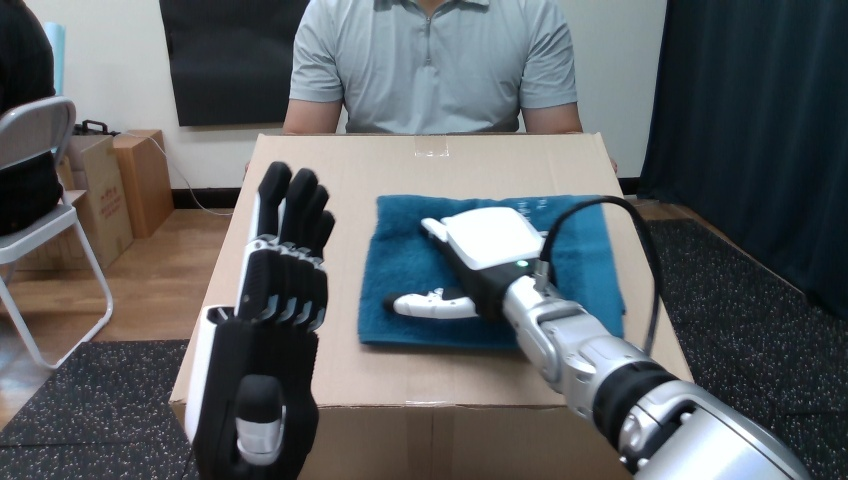left robot hand: (385, 196, 808, 479), (185, 162, 334, 478), (550, 203, 654, 349)
